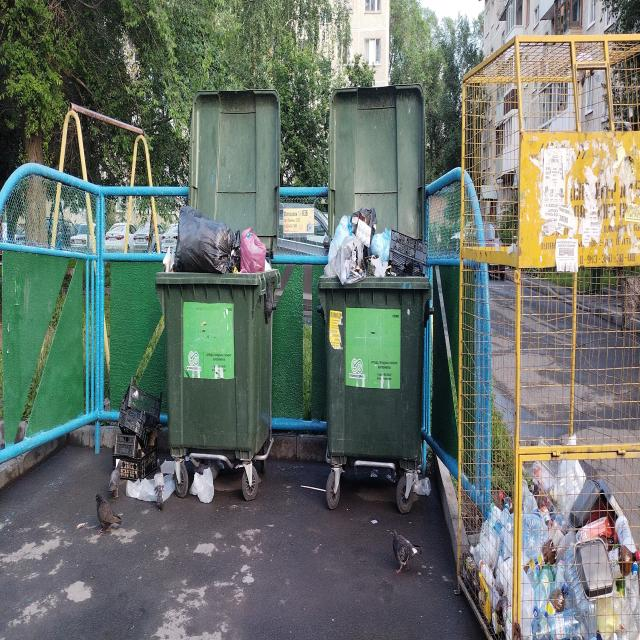bin: (155, 268, 281, 501), (317, 274, 431, 515)
trash: (520, 460, 640, 640), (324, 207, 428, 285), (462, 491, 514, 640), (162, 205, 272, 274), (113, 376, 163, 480), (189, 467, 214, 503), (126, 478, 157, 502), (193, 460, 224, 481), (160, 459, 175, 502), (412, 471, 431, 496), (538, 435, 551, 445), (567, 435, 576, 445)
